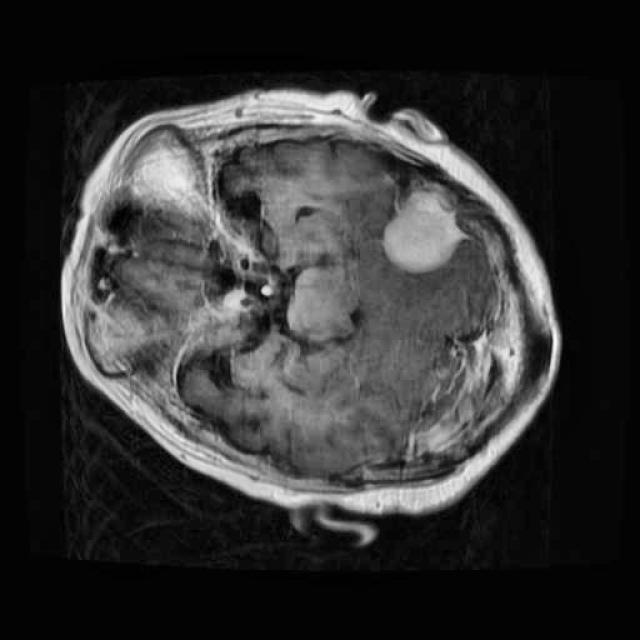Tumor: (374, 171, 472, 280)
